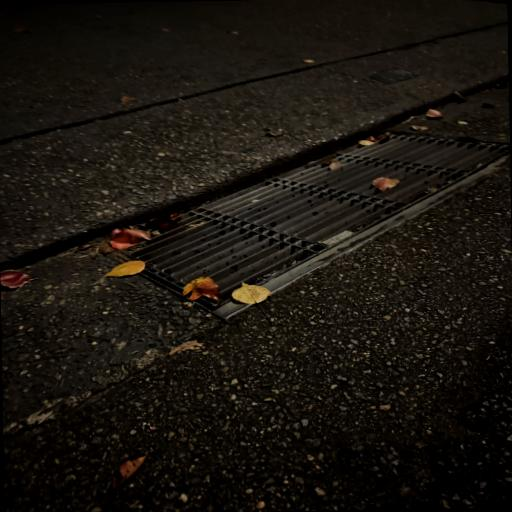debris: (100, 228, 151, 254), (112, 456, 146, 492), (183, 277, 223, 301), (1, 270, 32, 300), (231, 283, 271, 304), (105, 260, 146, 277), (146, 214, 181, 231), (358, 132, 391, 147), (170, 341, 202, 355), (372, 177, 399, 192), (324, 156, 341, 170), (425, 109, 443, 119), (402, 116, 417, 124), (121, 96, 136, 104), (267, 129, 284, 136), (410, 125, 427, 131), (303, 59, 314, 64)
gutter: (132, 134, 509, 318)
step: (0, 0, 509, 269)
